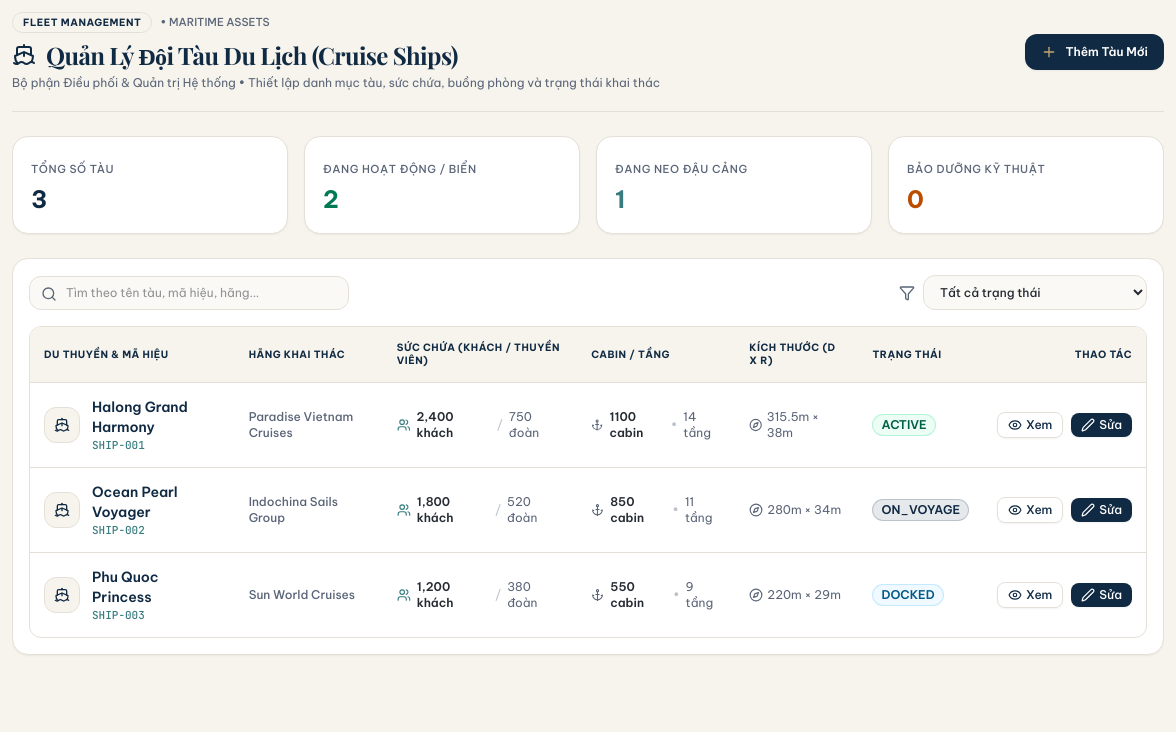
ShipsPage Component Tests › filters ships list when typing in search box
Type "Phu Quoc" into the search field named "Tìm kiếm tàu du lịch" at (189, 292), box x1=29 y1=276 x2=349 y2=310
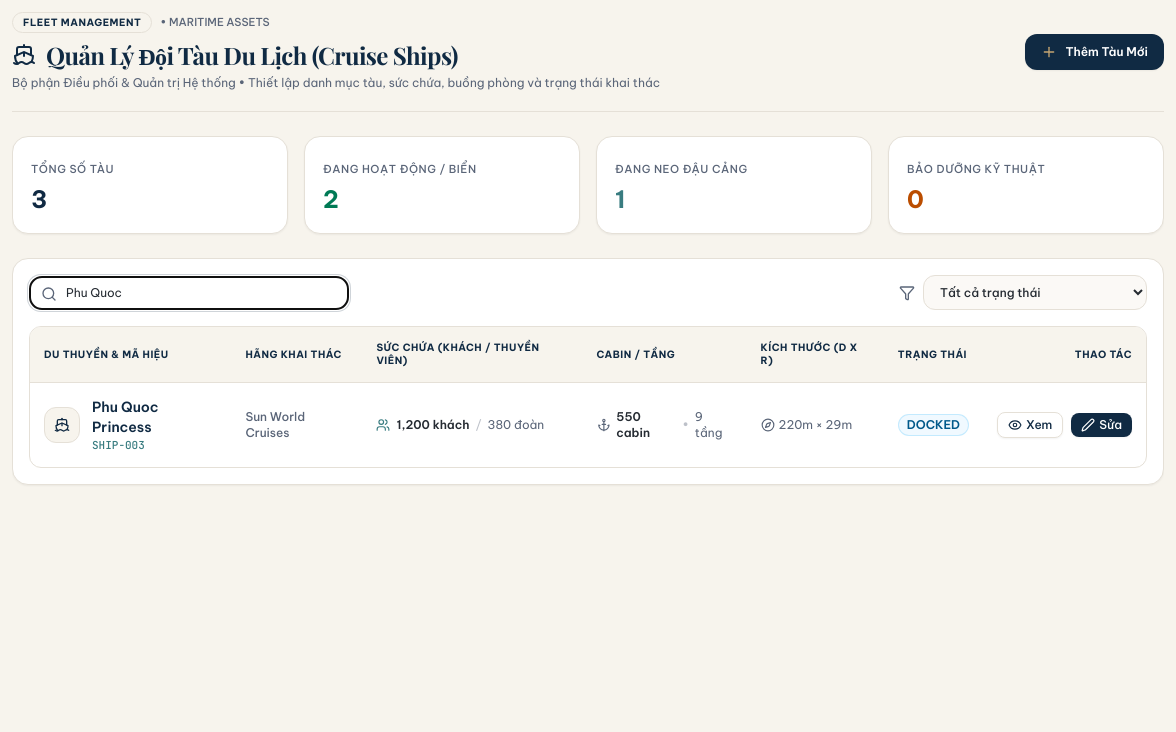
Expected: the text "Phu Quoc Princess" is shown, x1=92 y1=398 x2=159 y2=436
Now the text "Halong Grand Harmony" is gone
Now the text "Ocean Pearl Voyager" is gone
